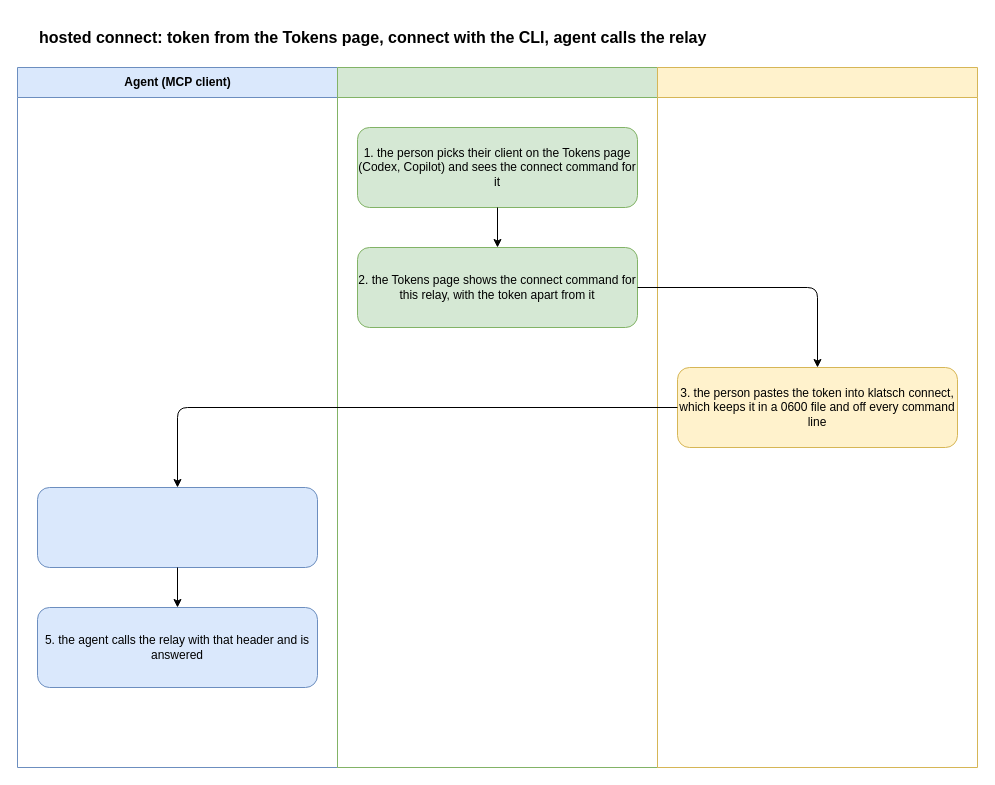
Some shapes in this 995 by 785 pixel diagram are drawn without their labels. The shapes that lost their labels are listed below. From the top down, each one's box as (x1, y1, x2, y2) in pixels, then its label:
(336, 66, 658, 768): Person (browser)
(656, 66, 978, 768): Relay
(36, 486, 318, 568): 4. the agent gets its Authorization header from the headersHelper command
